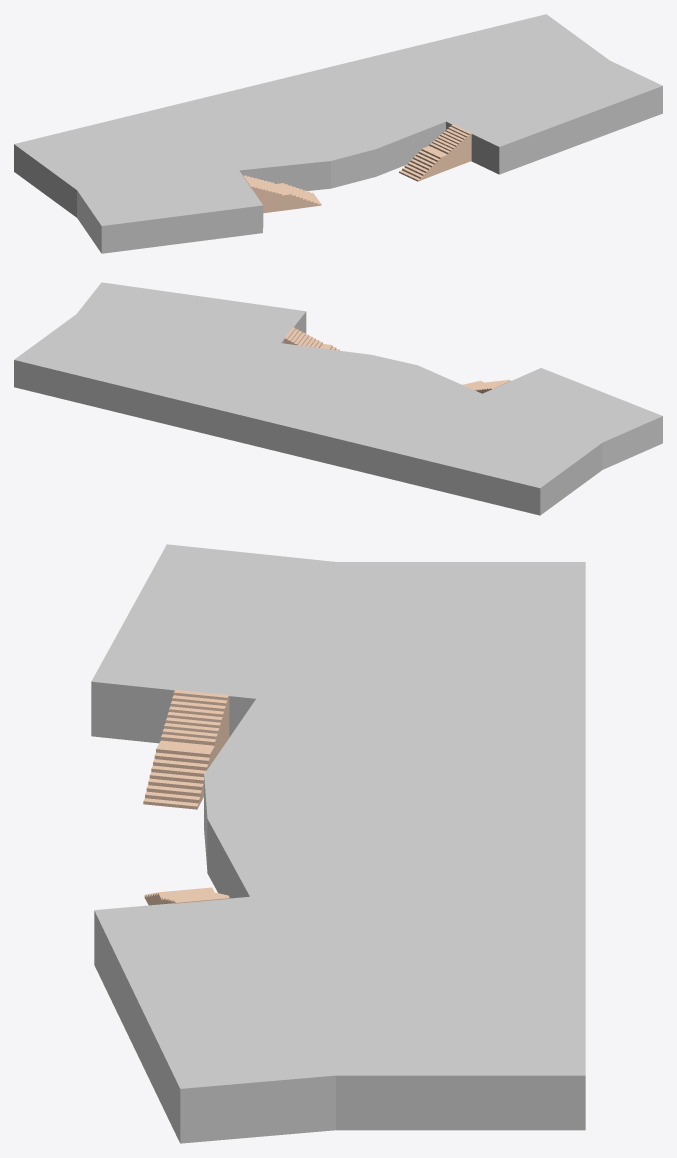
The model's file is searchcentermodel_2f.glb.
The picture shows the model from 3 angles, top to bottom: view 1: azimuth 30°, elevation 25°; view 2: azimuth 150°, elevation 25°; view 3: azimuth 270°, elevation 25°; orthographic projection. The views are drawn at different scales.
Visible parts, largest first — view 1: 2f_base_base, stairs_2f_R, stairs_2f_L; view 2: 2f_base_base, stairs_2f_R; view 3: 2f_base_base, stairs_2f_L, stairs_2f_R.
Boxes of the visible parts, x1=… form: 2f_base_base: x1=14, y1=14, x2=662, y2=253; stairs_2f_R: x1=399, y1=124, x2=472, y2=181; stairs_2f_L: x1=243, y1=175, x2=321, y2=213; 2f_base_base: x1=14, y1=282, x2=662, y2=515; stairs_2f_R: x1=284, y1=327, x2=339, y2=350; 2f_base_base: x1=91, y1=544, x2=585, y2=1143; stairs_2f_L: x1=143, y1=689, x2=229, y2=809; stairs_2f_R: x1=144, y1=887, x2=229, y2=905.
Bounding box in the file's own units: 88.77 × 4.22 × 34.06.
